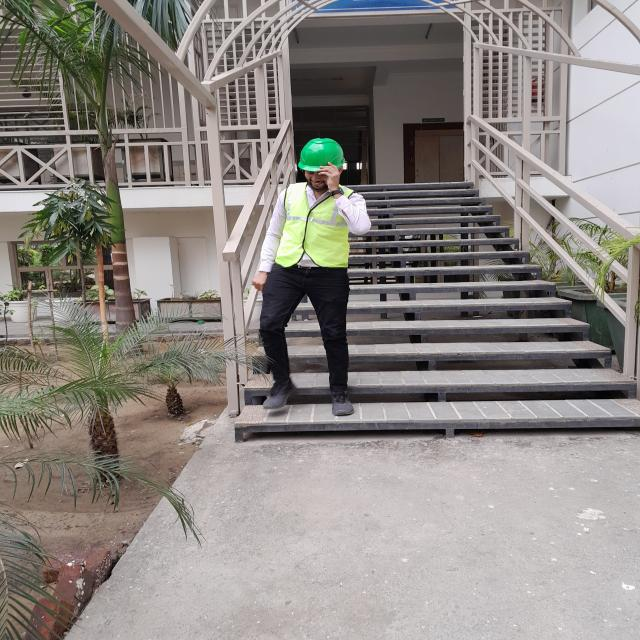safe: (252, 139, 370, 413)
